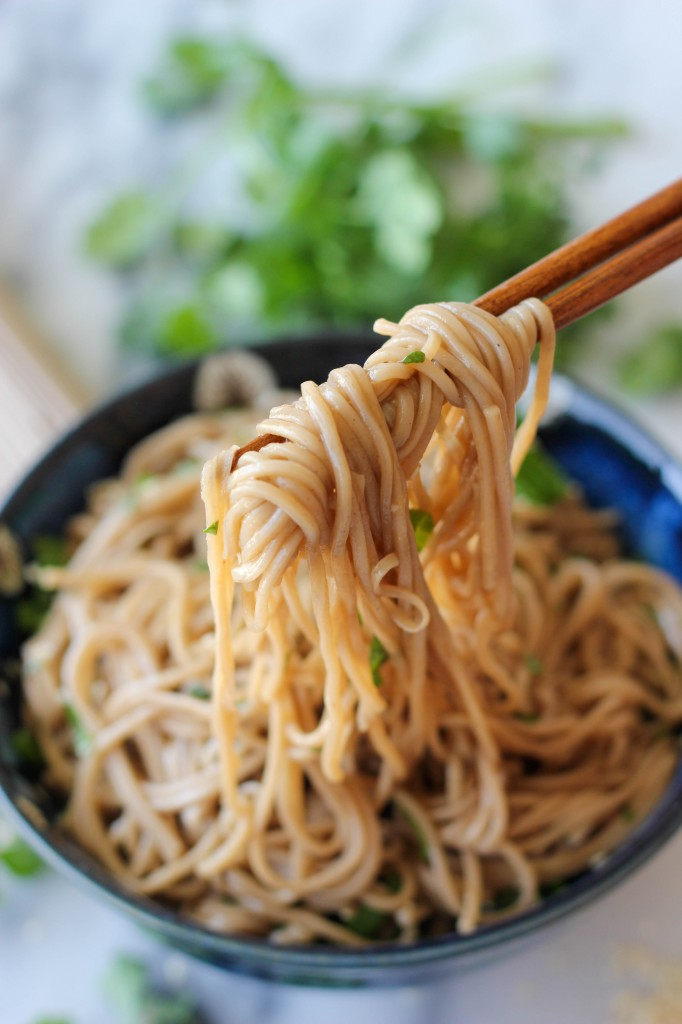Soba: (38, 311, 682, 936)
